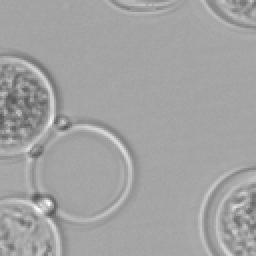picoshell: (34, 120, 134, 222), (0, 56, 54, 154), (198, 168, 254, 254), (0, 198, 60, 254), (204, 0, 254, 26), (106, 0, 180, 12)
